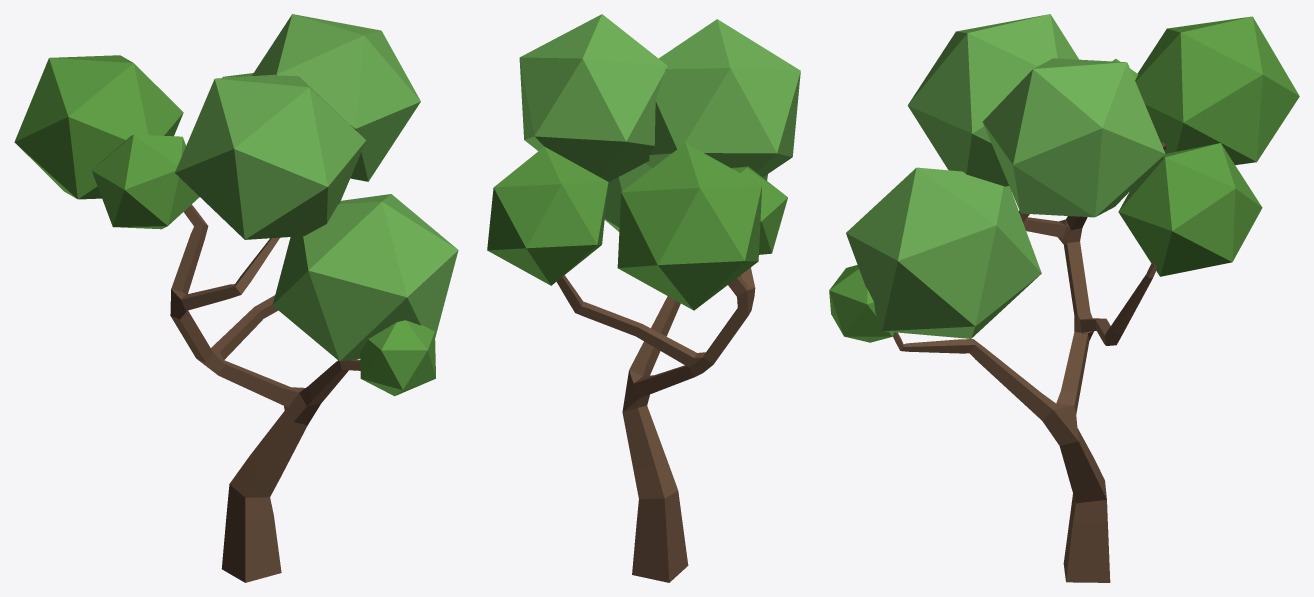
File: ico_tree3.glb
3 views of the same model, side by side, from view 1: azimuth 30°, elevation 25°; view 2: azimuth 150°, elevation 25°; view 3: azimuth 270°, elevation 25° (orthographic). The views are drawn at different scales.
Parts seen in each view (by area): view 1: Icosphere.047, Icosphere.043, Cube.011, Icosphere.045, Icosphere.046, Icosphere.044, Icosphere.041; view 2: Icosphere.046, Icosphere.045, Icosphere.047, Cube.011, Icosphere.042, Icosphere.044, Icosphere.043; view 3: Icosphere.043, Icosphere.046, Icosphere.045, Cube.011, Icosphere.047, Icosphere.042, Icosphere.041.
Boxes of the visible parts, bbox=[...] form: Icosphere.047: bbox=[175, 74, 366, 239]; Icosphere.043: bbox=[272, 194, 458, 361]; Cube.011: bbox=[170, 204, 360, 582]; Icosphere.045: bbox=[14, 55, 183, 199]; Icosphere.046: bbox=[252, 14, 420, 181]; Icosphere.044: bbox=[91, 134, 199, 229]; Icosphere.041: bbox=[360, 320, 435, 396]; Icosphere.046: bbox=[519, 14, 667, 182]; Icosphere.045: bbox=[617, 143, 761, 310]; Icosphere.047: bbox=[645, 19, 800, 177]; Cube.011: bbox=[556, 267, 755, 582]; Icosphere.042: bbox=[487, 146, 608, 285]; Icosphere.044: bbox=[731, 166, 787, 254]; Icosphere.043: bbox=[604, 163, 767, 231]; Icosphere.043: bbox=[846, 167, 1041, 338]; Icosphere.046: bbox=[983, 58, 1165, 217]; Icosphere.045: bbox=[1135, 16, 1299, 165]; Cube.011: bbox=[893, 142, 1166, 582]; Icosphere.047: bbox=[907, 14, 1078, 186]; Icosphere.042: bbox=[1118, 143, 1262, 276]; Icosphere.041: bbox=[829, 265, 895, 342].
Size of the model in its own units: 7.68 by 13.09 by 10.18.
